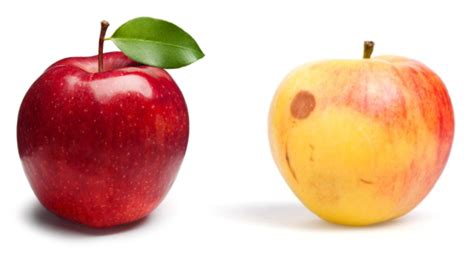apple: (264, 49, 458, 228), (13, 47, 191, 230)
